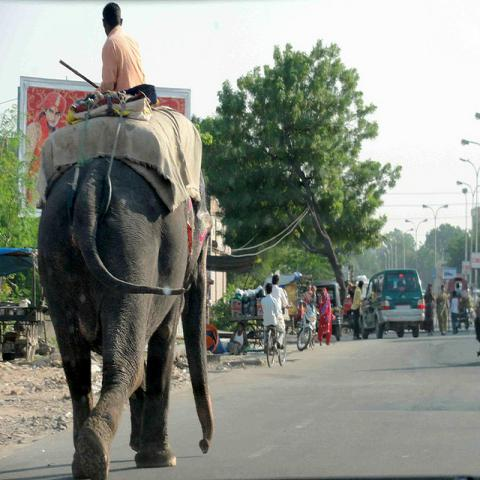car: (315, 269, 426, 342)
motorcycle: (297, 300, 320, 353)
